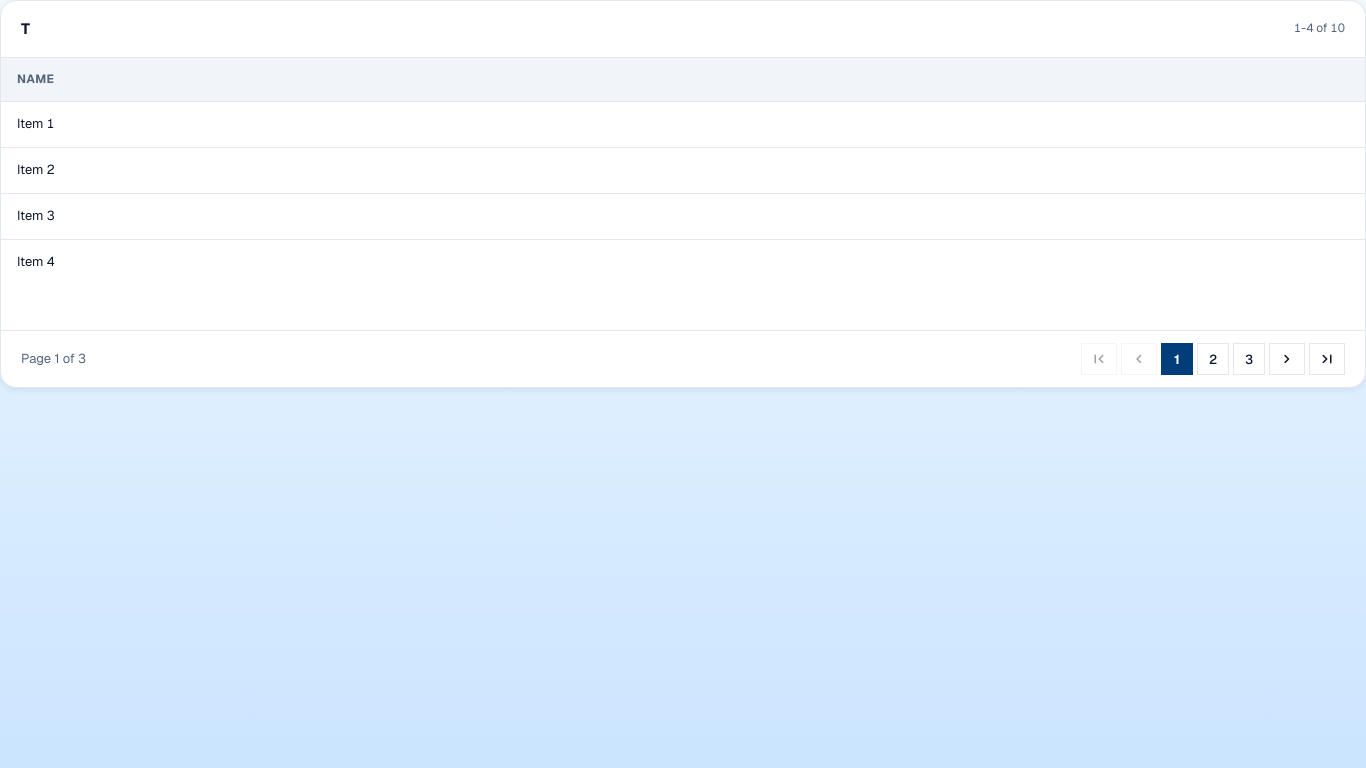
Scenario: DataTable › paginates: shows only pageSize rows per page and navigates to next page
Expected: the text "Item 1" is shown, [1,102,1365,148]
Expected: the text "Item 4" is shown, [1,239,1365,284]
Click the button titled "Next": {"x": 1287, "y": 359} [1269,343,1305,375]
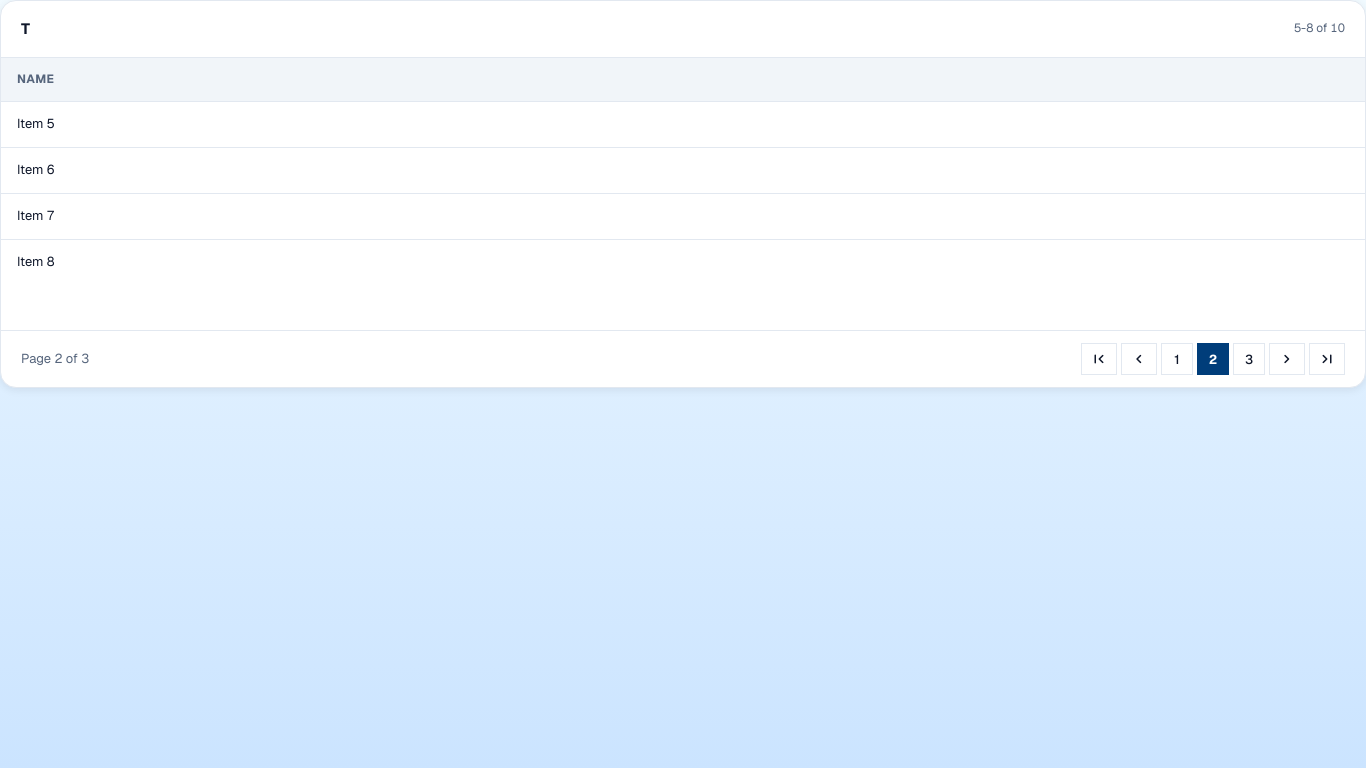
Now the text "Item 5" is shown, box [1,102,1365,148]
Now the text "Page 2 of 3" is shown, box [21,349,89,369]
